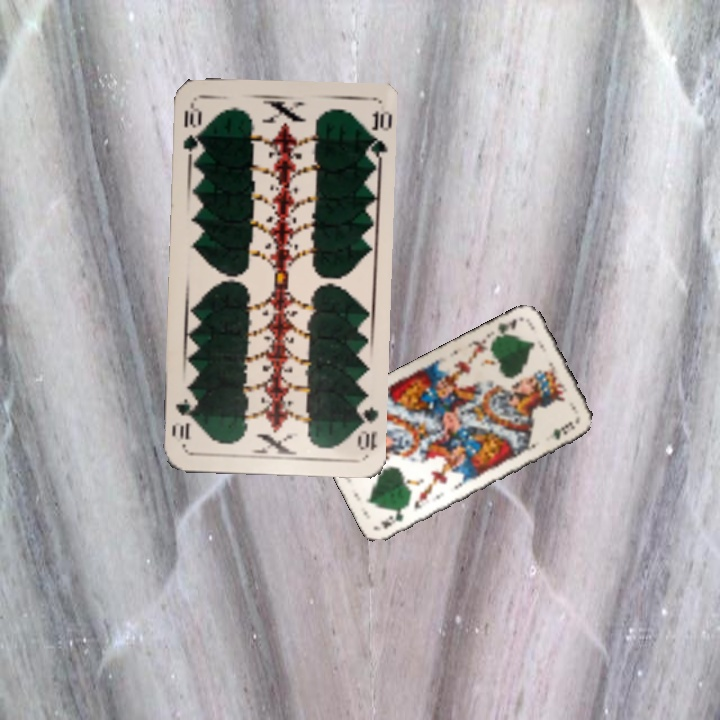G10: (179, 99, 205, 159), (353, 402, 381, 453)
GK: (490, 314, 520, 343), (376, 507, 407, 532)
